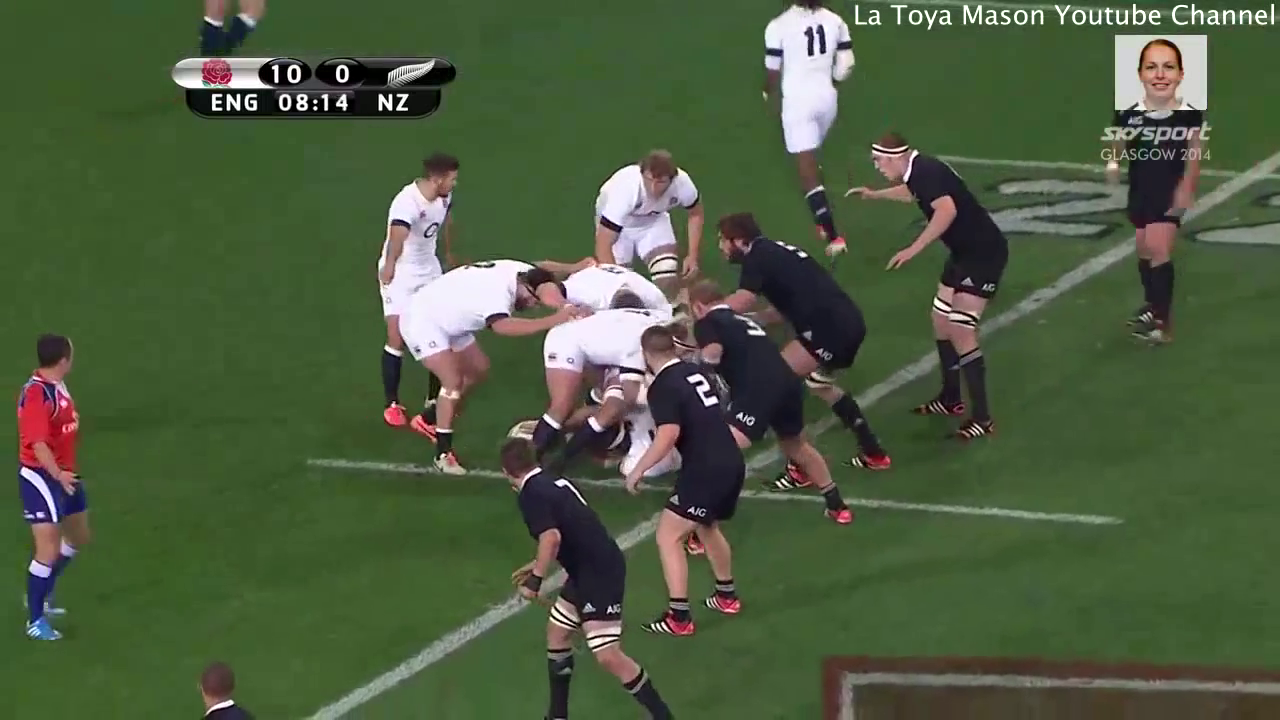player: (479, 422, 691, 720), (843, 121, 1017, 448), (701, 208, 901, 478), (673, 266, 861, 541), (617, 310, 751, 642), (394, 239, 566, 496), (509, 280, 697, 481), (361, 132, 477, 451), (1, 319, 104, 660), (744, 1, 868, 264), (1104, 71, 1209, 352), (568, 136, 710, 320), (177, 648, 264, 720)
